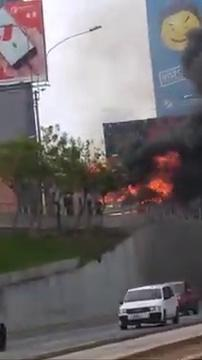fire: (146, 172, 174, 199)
